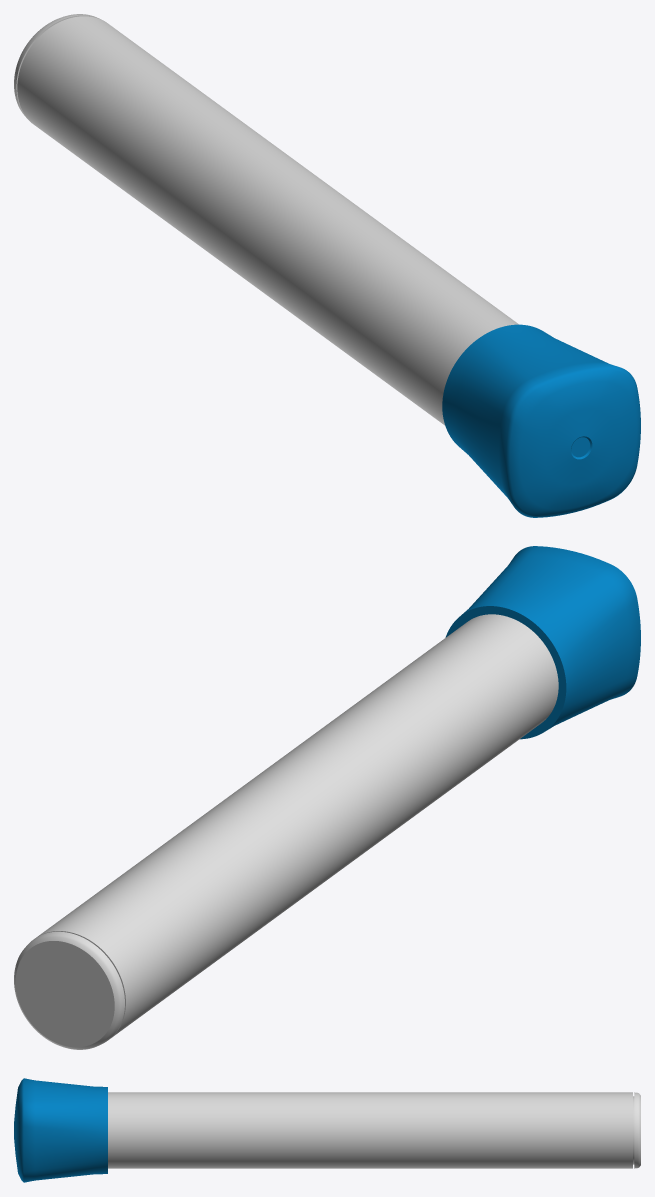
The model's file is asset.glb.
The picture shows the model from 3 angles, top to bottom: view 1: azimuth 30°, elevation 25°; view 2: azimuth 150°, elevation 25°; view 3: azimuth 270°, elevation 25°; orthographic projection. The views are drawn at different scales.
Parts seen in each view (by area): view 1: Cap.003, Cap.002; view 2: Cap.003, Cap.002; view 3: Cap.003, Cap.002.
Part boxes in pixels (left/top/right/bottom): Cap.003: left=14, top=14, right=518, bottom=425; Cap.002: left=442, top=324, right=640, bottom=517; Cap.003: left=14, top=614, right=558, bottom=1049; Cap.002: left=445, top=546, right=640, bottom=739; Cap.003: left=108, top=1092, right=640, bottom=1168; Cap.002: left=14, top=1078, right=107, bottom=1182.
Size of the model in its own units: 2.92 by 2.93 by 19.38.
